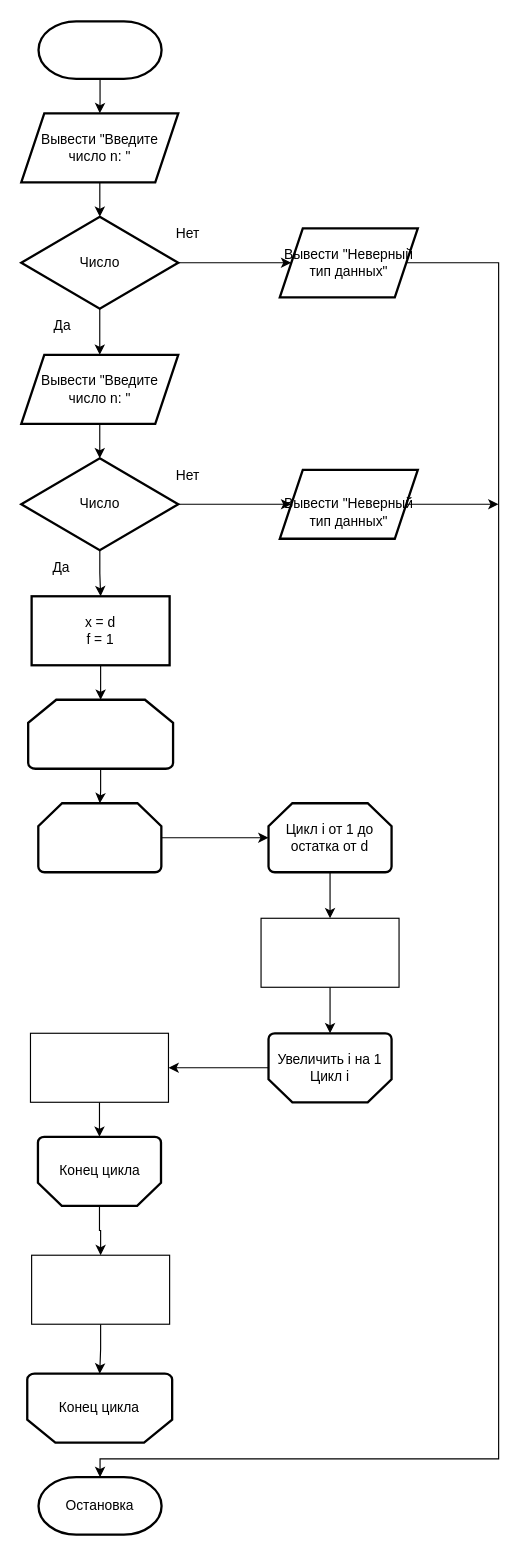
Image size: 528x1555. Some labels were removed from this diagram. Each missing label, with the centre of its shape:
"d = x" belongs at (100,1289).
"f = f * i" belongs at (329,952).
"x = x + f d = d / 10 f = 1" belongs at (98,1067).
"Запуск" belongs at (99,49).
"Цикл пока d > 0" belongs at (99,837).
"Цикл пока x не делиться на n и x не превышает n в 10 раз" belongs at (100,733).
